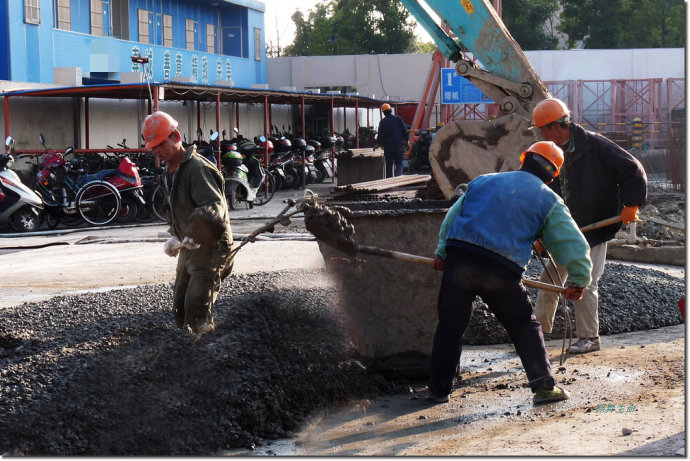helmet: (521, 141, 564, 176), (140, 111, 178, 149), (528, 98, 570, 129)
person: (410, 138, 594, 407), (525, 97, 649, 359), (140, 111, 231, 336), (371, 101, 409, 178)
